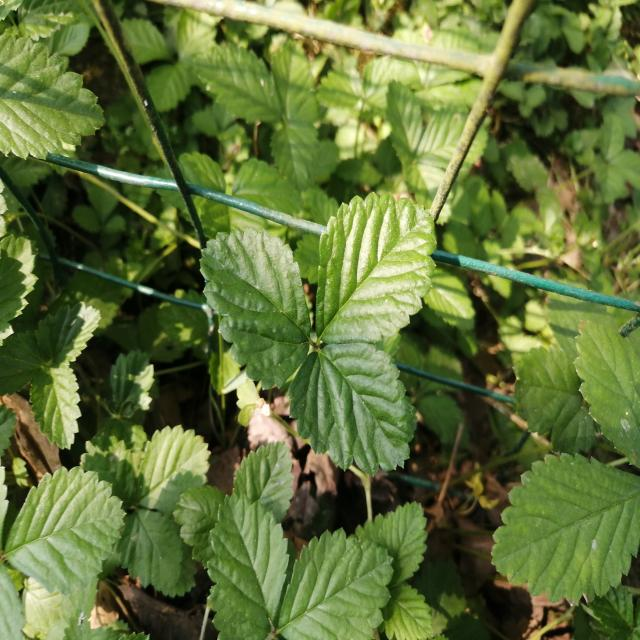Mock_strawberry: (197, 184, 430, 478)
